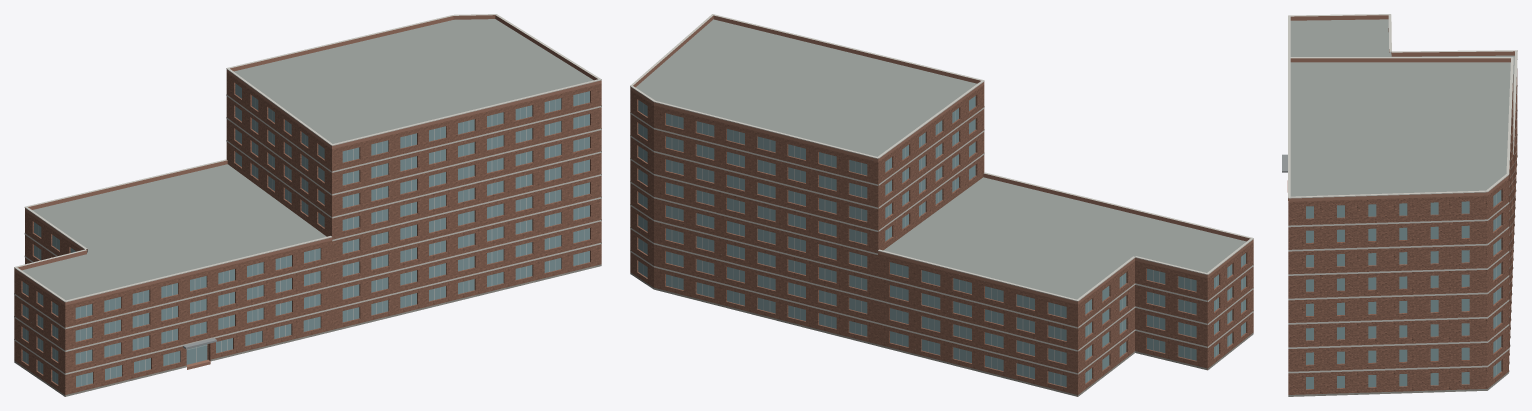
3 renders of one model, left to right at view 1: azimuth 30°, elevation 25°; view 2: azimuth 150°, elevation 25°; view 3: azimuth 270°, elevation 25°, orthographic. The views are drawn at different scales.
Parts seen in each view (by area): view 1: e2__wall, e2__roof, e2__glass, e2__trim, e2__parapet, e2__frame, e2__base; view 2: e2__wall, e2__roof, e2__glass, e2__trim, e2__parapet, e2__frame, e2__base; view 3: e2__wall, e2__roof, e2__trim, e2__glass, e2__parapet, e2__base.
Boxes of the visible parts, x1,y1,x2,y2 form: e2__wall: [14, 72, 601, 396]; e2__roof: [22, 19, 593, 300]; e2__glass: [22, 83, 589, 387]; e2__trim: [14, 14, 601, 374]; e2__parapet: [14, 15, 601, 305]; e2__frame: [26, 92, 584, 385]; e2__base: [14, 264, 601, 396]; e2__wall: [630, 85, 1253, 396]; e2__roof: [636, 19, 1246, 299]; e2__glass: [638, 96, 1245, 386]; e2__trim: [630, 14, 1253, 374]; e2__parapet: [630, 15, 1253, 304]; e2__frame: [643, 103, 1242, 385]; e2__base: [630, 272, 1253, 396]; e2__wall: [1288, 69, 1517, 394]; e2__roof: [1290, 19, 1514, 196]; e2__trim: [1288, 14, 1517, 373]; e2__glass: [1306, 190, 1501, 389]; e2__parapet: [1288, 15, 1514, 201]; e2__base: [1288, 155, 1517, 396].
Bounding box in the file's own units: 86.65 × 29 × 30.67.
10 materials, 2 textured.
